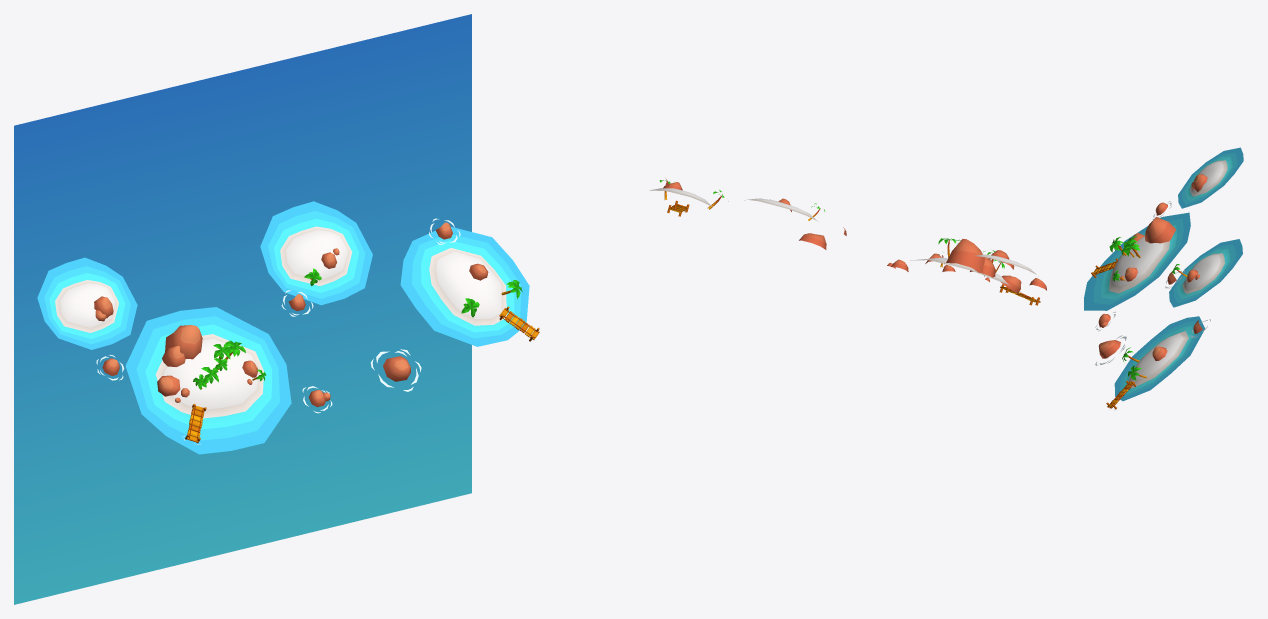
Rendered from background-tropic.glb.
3 views of the same model, side by side, from view 1: azimuth 30°, elevation 25°; view 2: azimuth 150°, elevation 25°; view 3: azimuth 270°, elevation 25° (orthographic). The views are drawn at different scales.
Visible parts, largest first — view 1: background, background-islands; view 2: background-islands; view 3: background-islands.
Part boxes in pixels (left/top/right/bottom): background: left=14, top=14, right=471, bottom=604; background-islands: left=37, top=201, right=539, bottom=454; background-islands: left=650, top=179, right=1046, bottom=305; background-islands: left=1084, top=147, right=1243, bottom=410.
Size of the model in its own units: 1 by 1 by 0.3823.
1 material, 1 textured.
